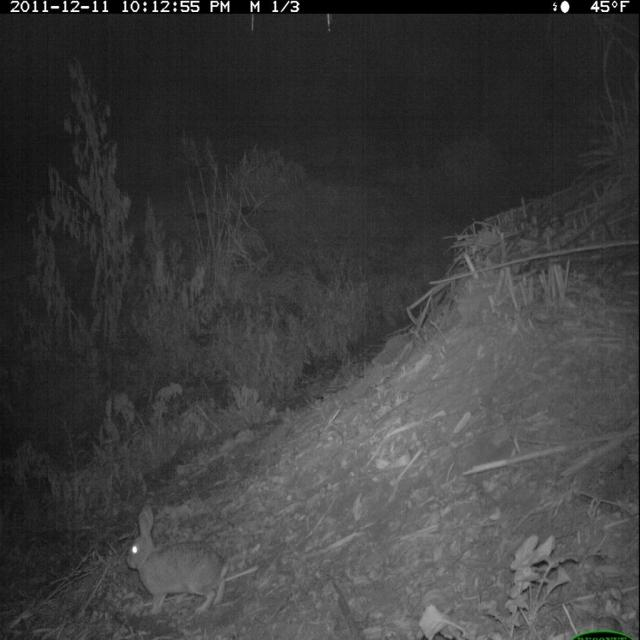rabbit: (124, 509, 248, 615)
